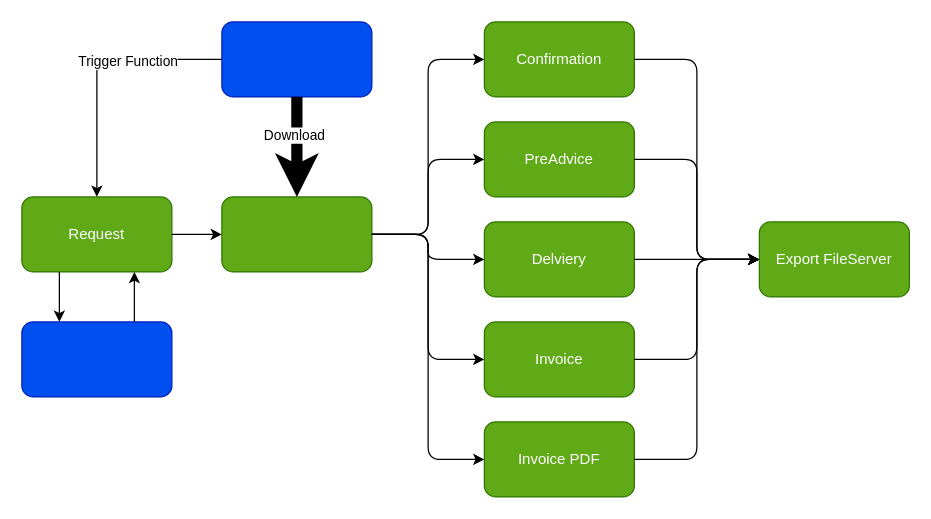
Some shapes in this 931 by 519 pixel diagram are drawn without their labels. Here are the shapes that lost their labels. From the top down, the centre of each, then its label:
At point (296, 59): "Business Central".
At point (296, 234): "Process".
At point (96, 359): "Azure OAuth2.0".
